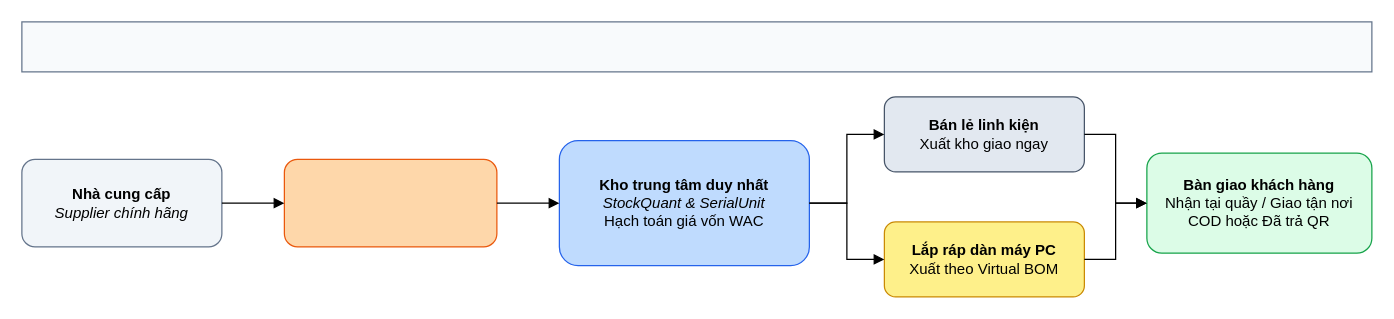
Some shapes in this 1394 by 319 pixel diagram are drawn without their labels. The centre of each missing label's shape, as x and y in pixels:
MÔ HÌNH VẬN HÀNH MỘT CỬA HÀNG VÀ MỘT KHO TRUNG TÂM EL-TECH: point (696, 46)
Đơn mua PO Nhập đủ / Điều chỉnh: point (390, 202)
